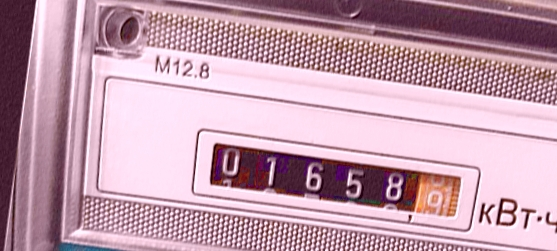0: (220, 145, 243, 177)
1: (262, 154, 283, 188)
5: (343, 166, 368, 200)
6: (303, 158, 327, 193)
8: (384, 169, 408, 203)
9: (422, 188, 446, 218)
screen: (180, 119, 488, 240)
